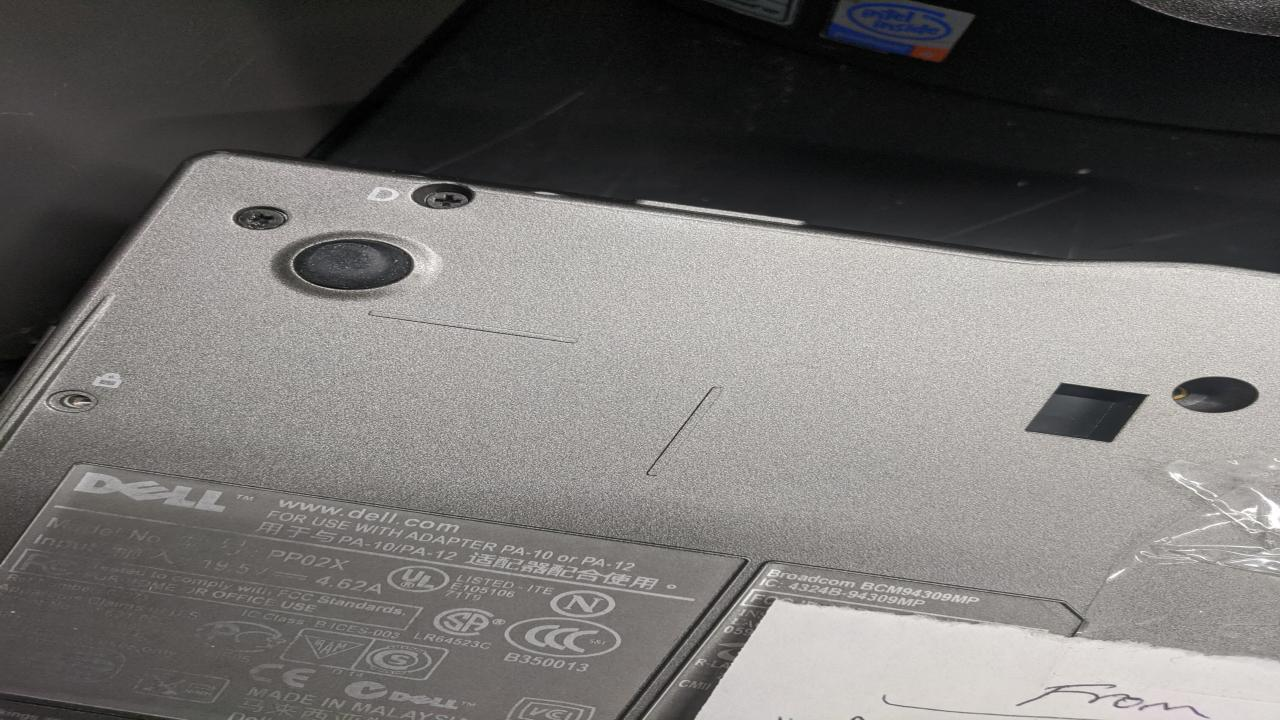CRS: (412, 187, 477, 212), (237, 206, 289, 229)
